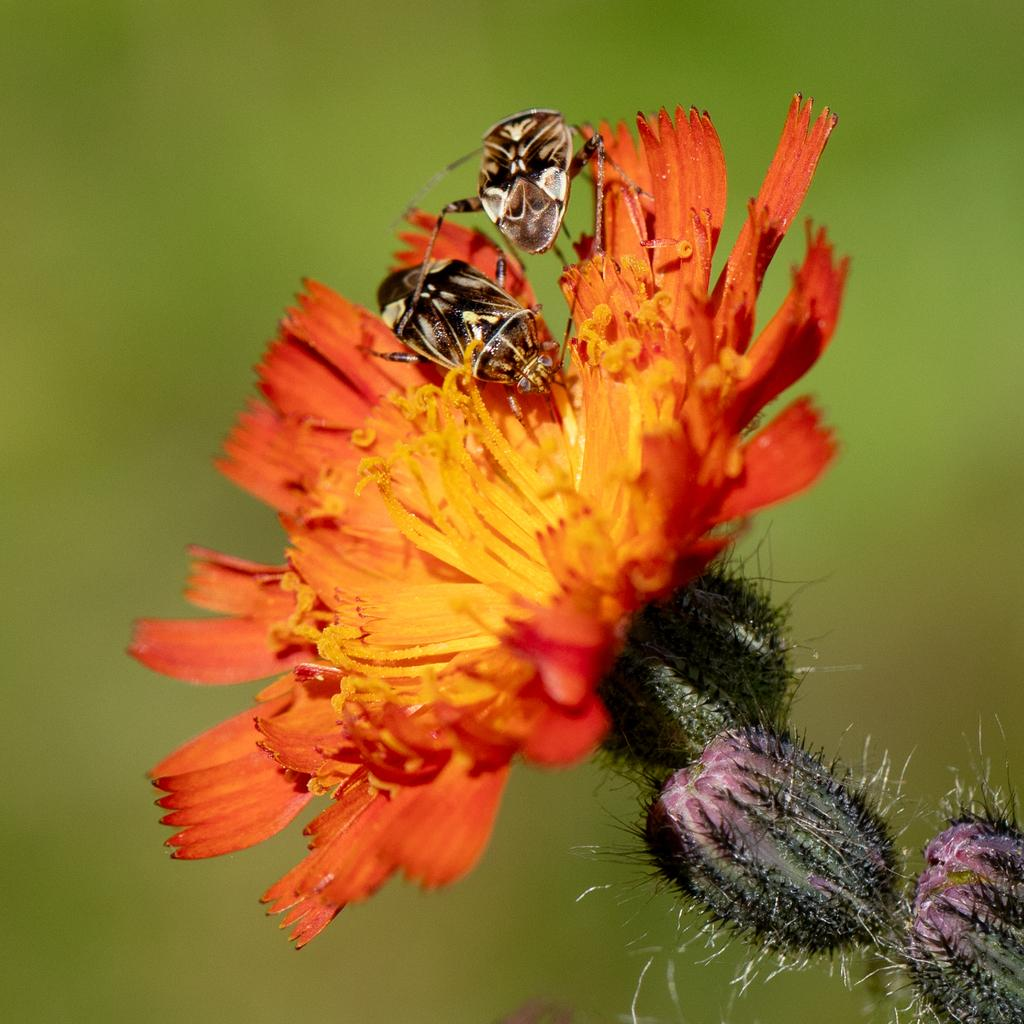plant_bugs: (403, 105, 707, 303), (337, 213, 581, 448)
